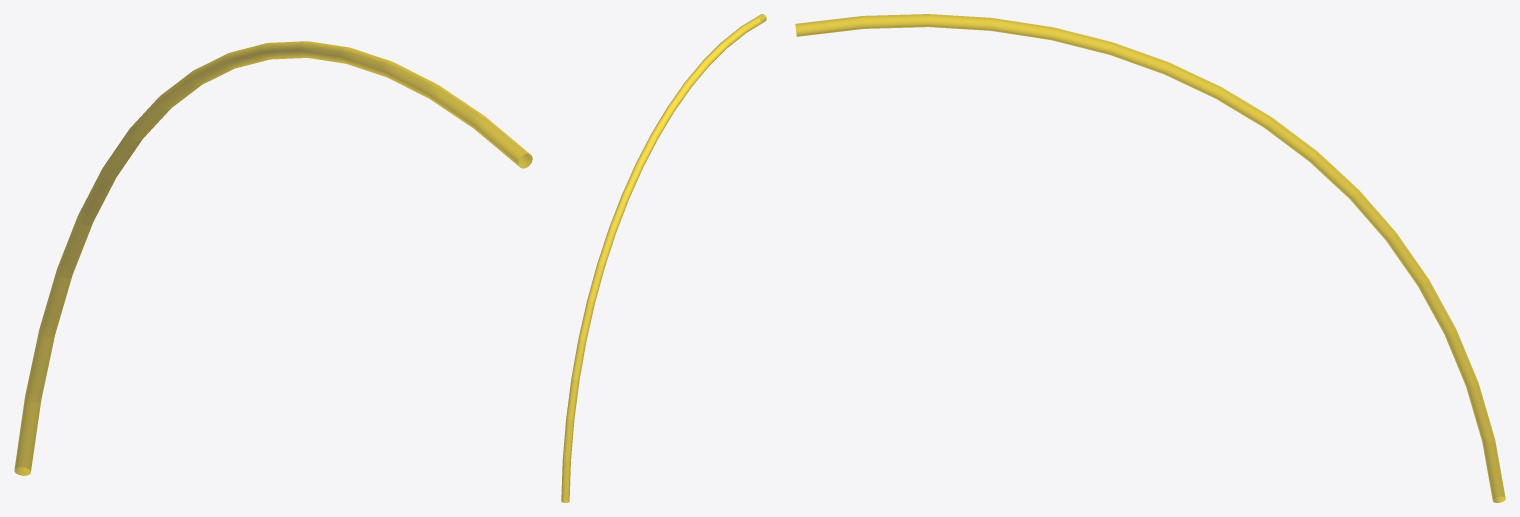
The model's file is Event_17758602_track_42.fbx.
The picture shows the model from 3 angles, left to right: view 1: azimuth 30°, elevation 25°; view 2: azimuth 150°, elevation 25°; view 3: azimuth 270°, elevation 25°; orthographic projection. The views are drawn at different scales.
Parts seen in each view (by area): view 1: Model; view 2: Model; view 3: Model.
Boxes of the visible parts, x1,y1,x2,y2 form: Model: [14, 41, 532, 475]; Model: [561, 14, 766, 502]; Model: [795, 14, 1505, 502].
Bounding box in the file's own units: 0.1884 × 1.7 × 2.17.
